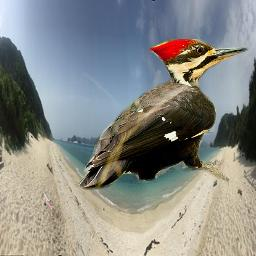Woodpecker: (79, 39, 252, 190)
